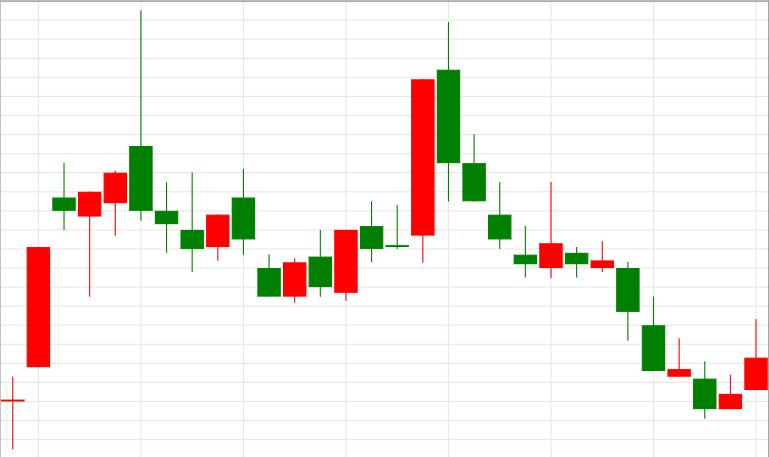inverse_hammer_rise: (437, 21, 562, 277)
